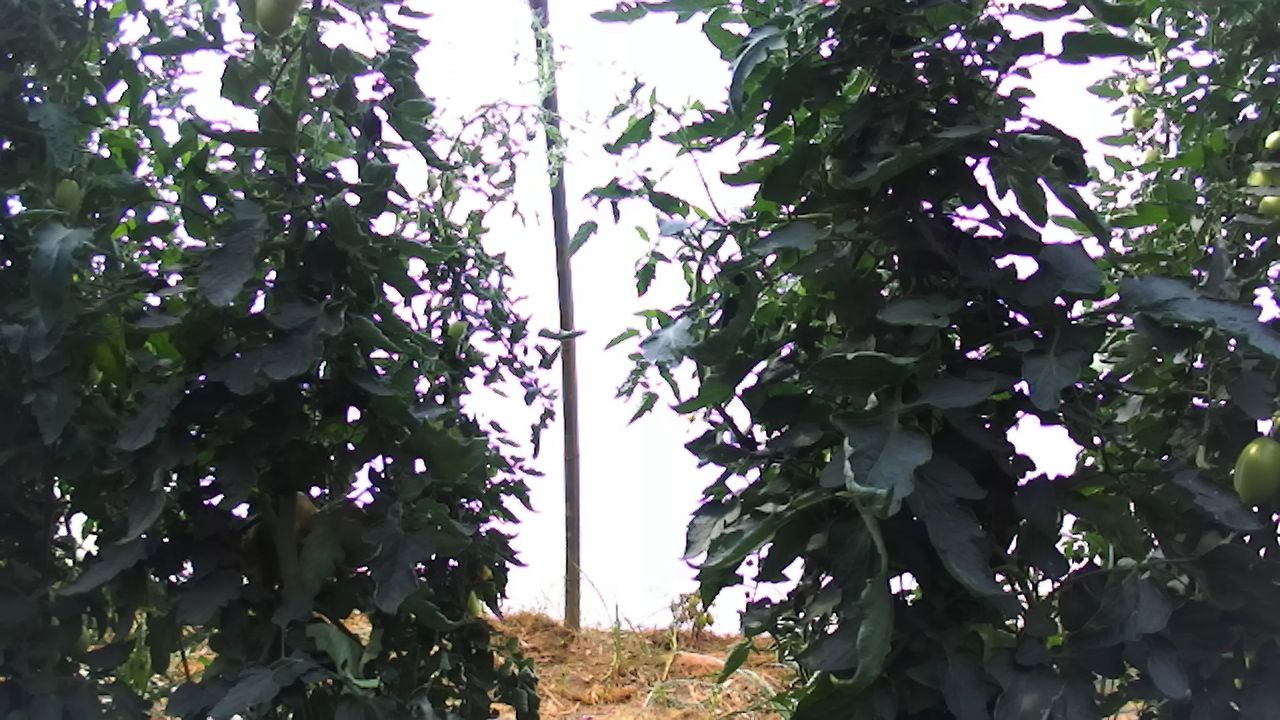tomato: (1228, 434, 1280, 515)
